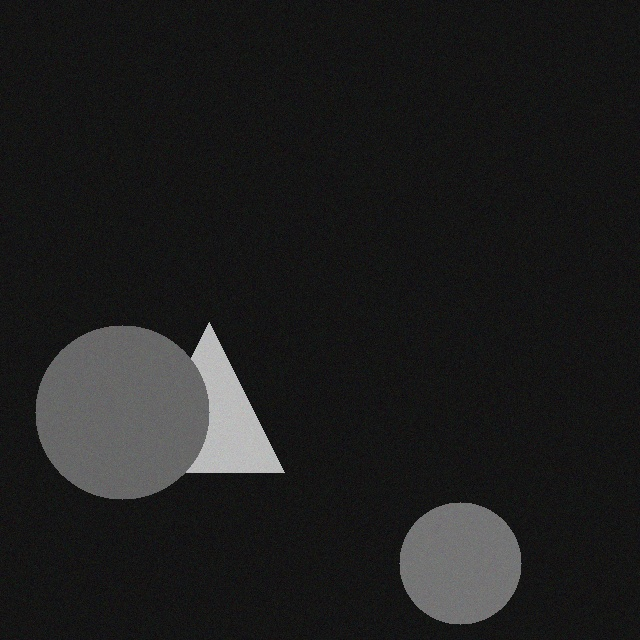circle: (38, 324, 212, 498), (402, 501, 524, 623)
triangle: (137, 321, 287, 471)
